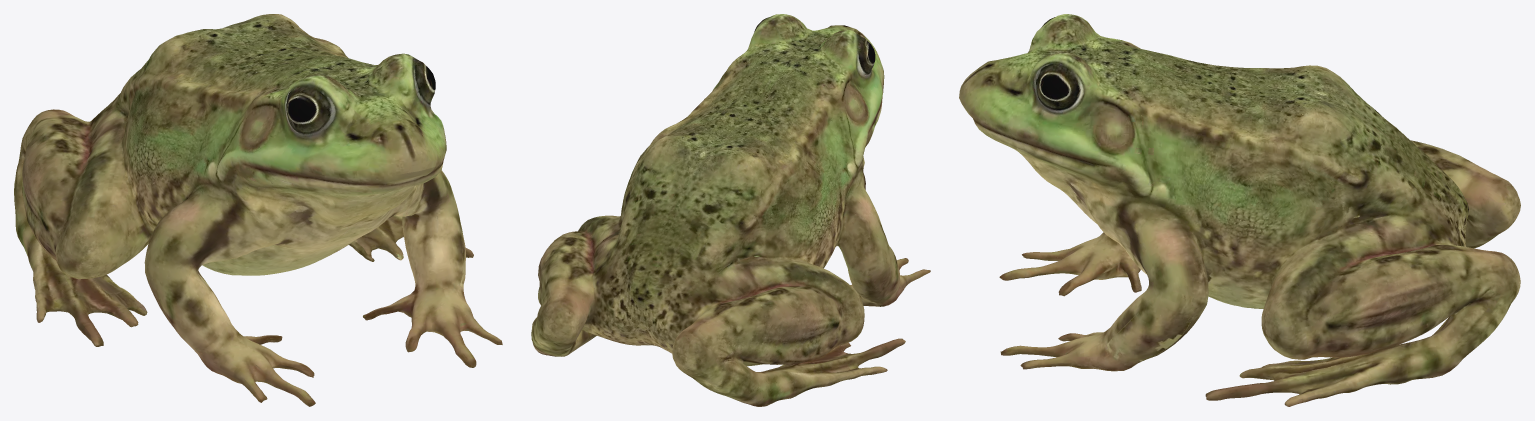
Rendered from frog.glb.
3 views of the same model, side by side, from view 1: azimuth 30°, elevation 25°; view 2: azimuth 150°, elevation 25°; view 3: azimuth 270°, elevation 25° (orthographic). The views are drawn at different scales.
Parts seen in each view (by area): view 1: Mesh0; view 2: Mesh0; view 3: Mesh0.
Boxes of the visible parts, <box> form: Mesh0: <box>14,14,502,406</box>; Mesh0: <box>531,14,930,406</box>; Mesh0: <box>959,14,1520,406</box>.
Bounding box in the file's own units: 1.54 × 1.07 × 1.91.
1 material, 1 textured.
